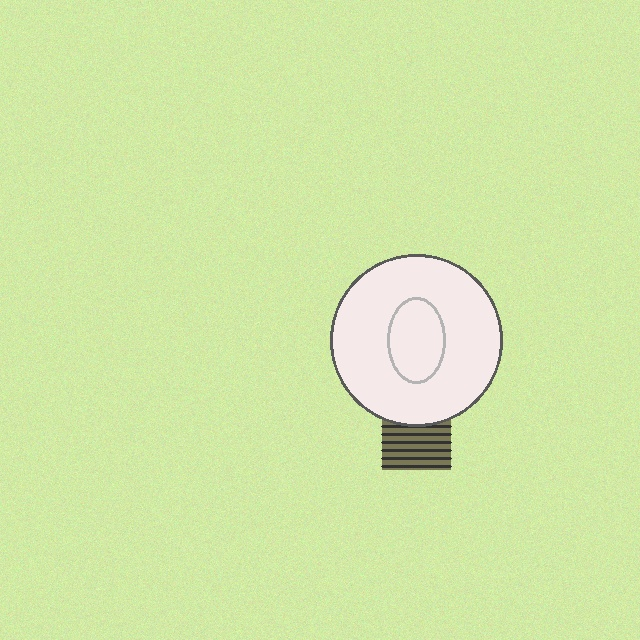bulb: (326, 250, 506, 474)
